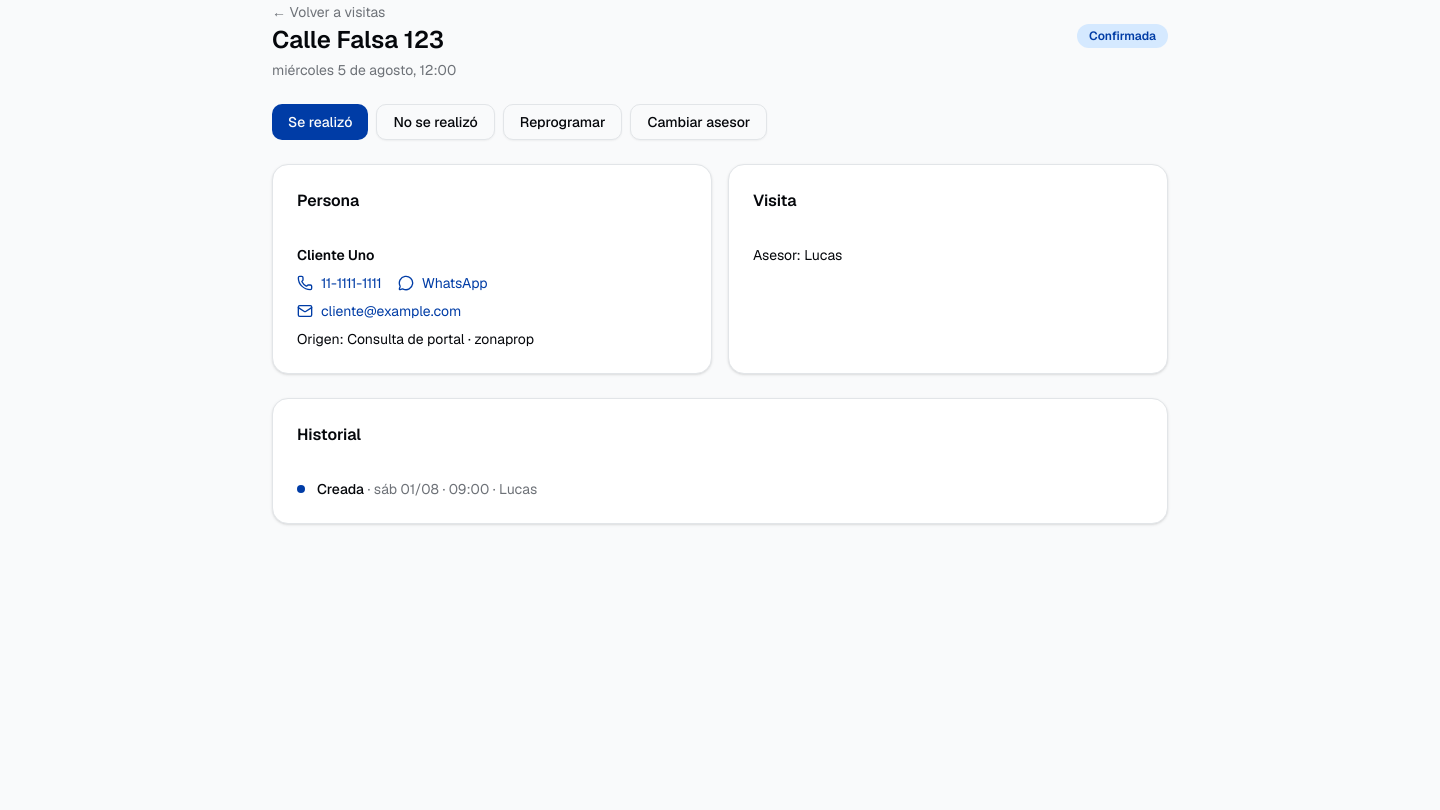
Scenario: VisitDetailPage — cambiar de etapa › "No se realizó" exige un motivo antes de guardar, y después guarda y pinta la respuesta
Click the button "No se realizó": (436,122) [376,104,495,140]
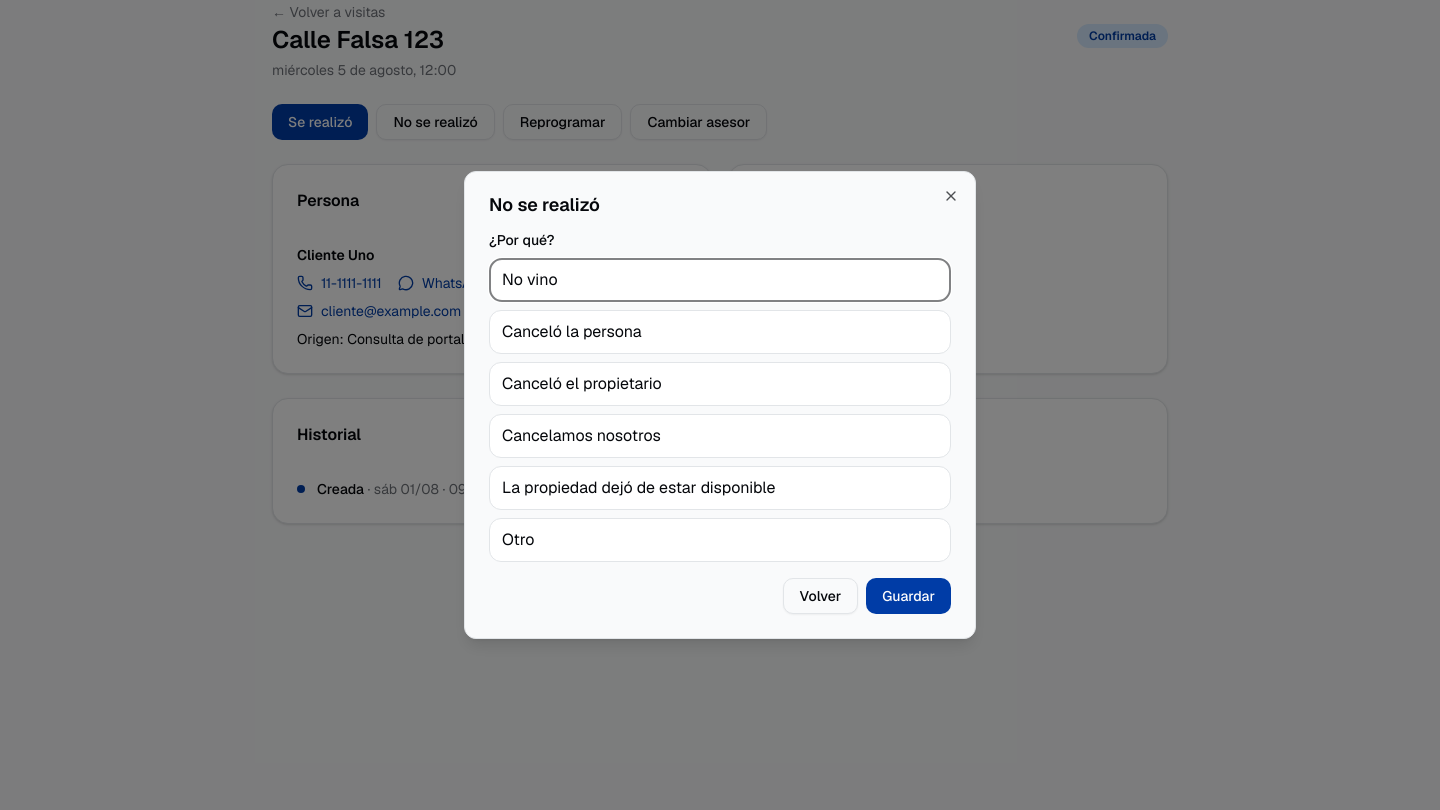
Click the button "Guardar": (909,596) [866,578,951,614]
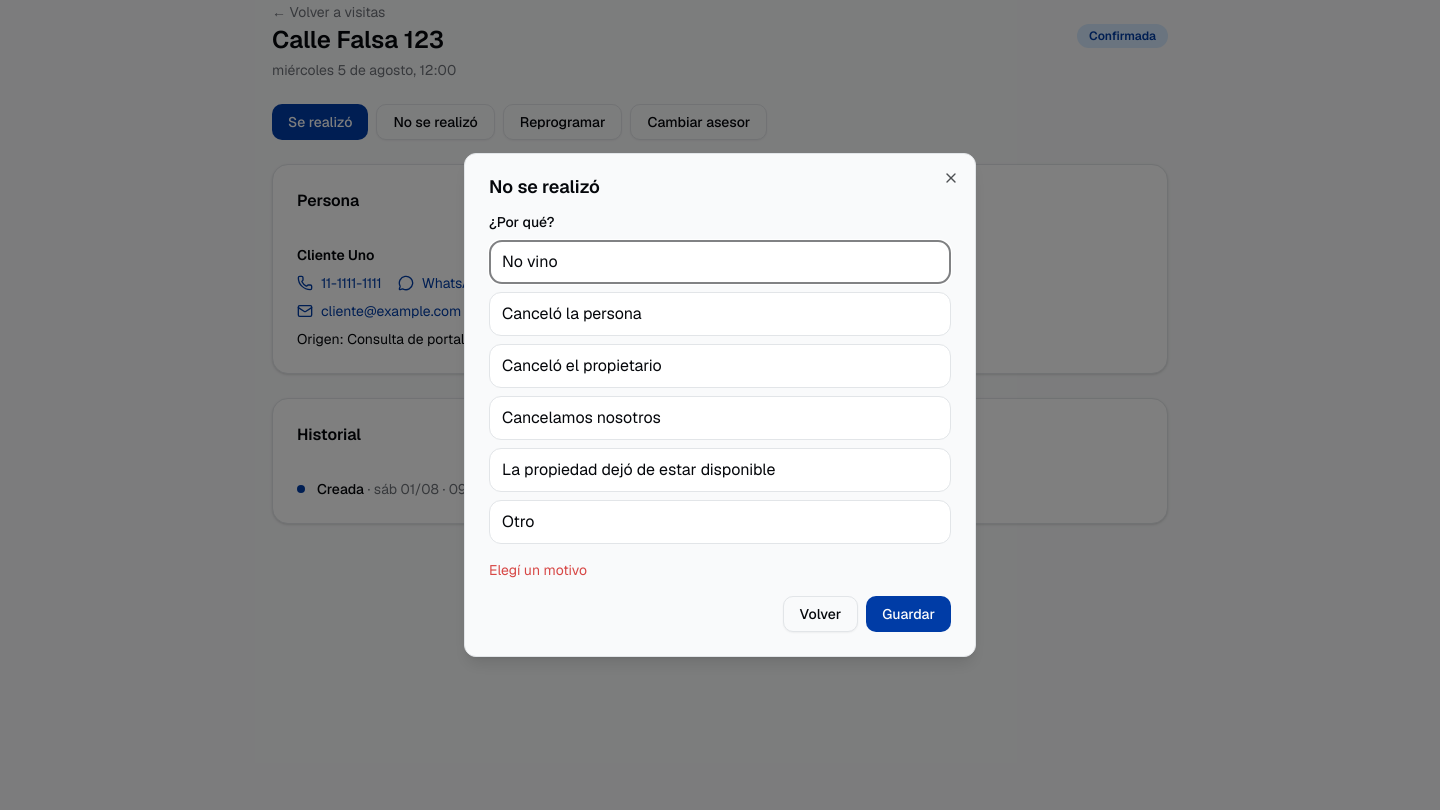
Expected: the text "Elegí un motivo" is shown, [489,561,587,579]
Click the radio button labelled "No vino": (530,262) [489,240,951,284]
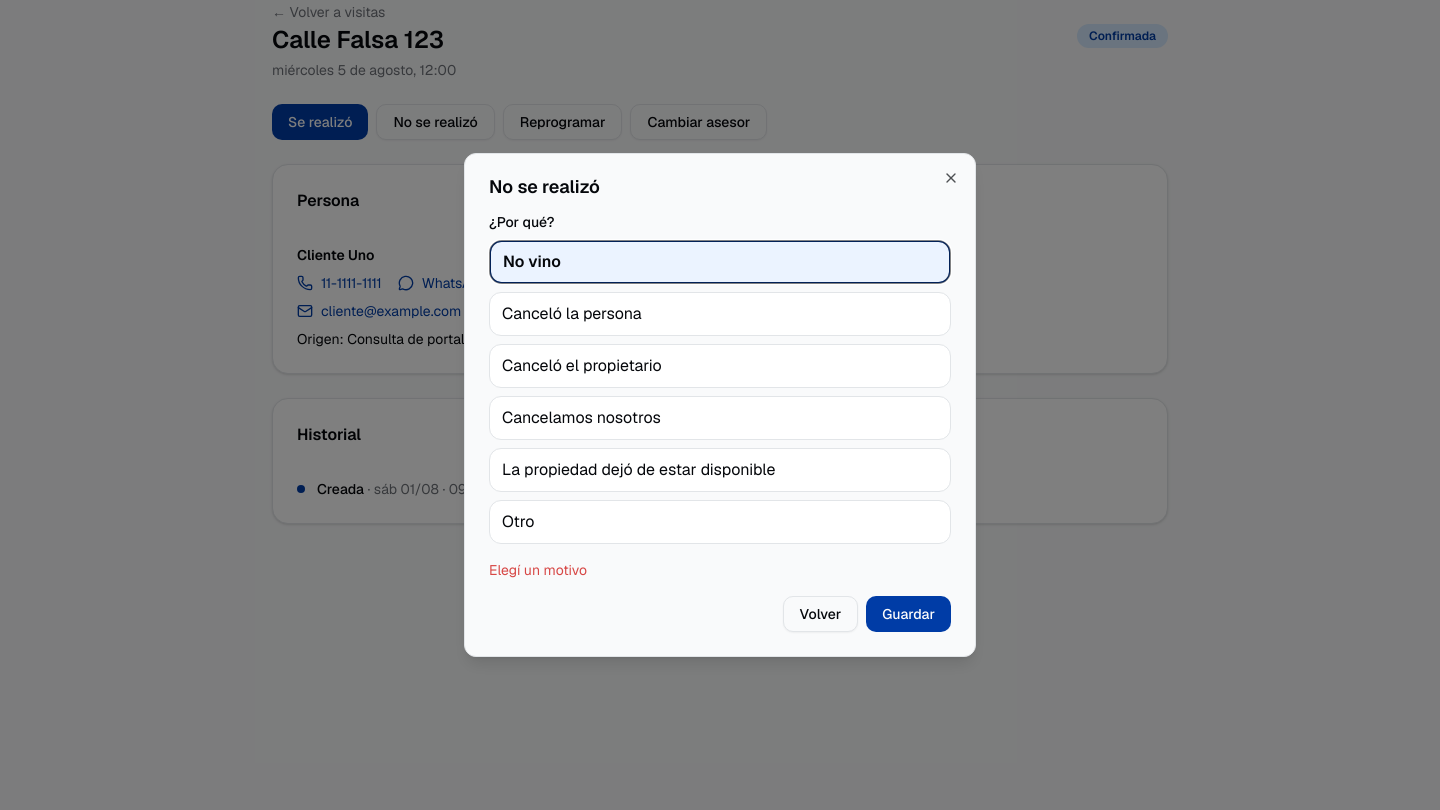
Click the button "Guardar": (909,614) [866,596,951,632]
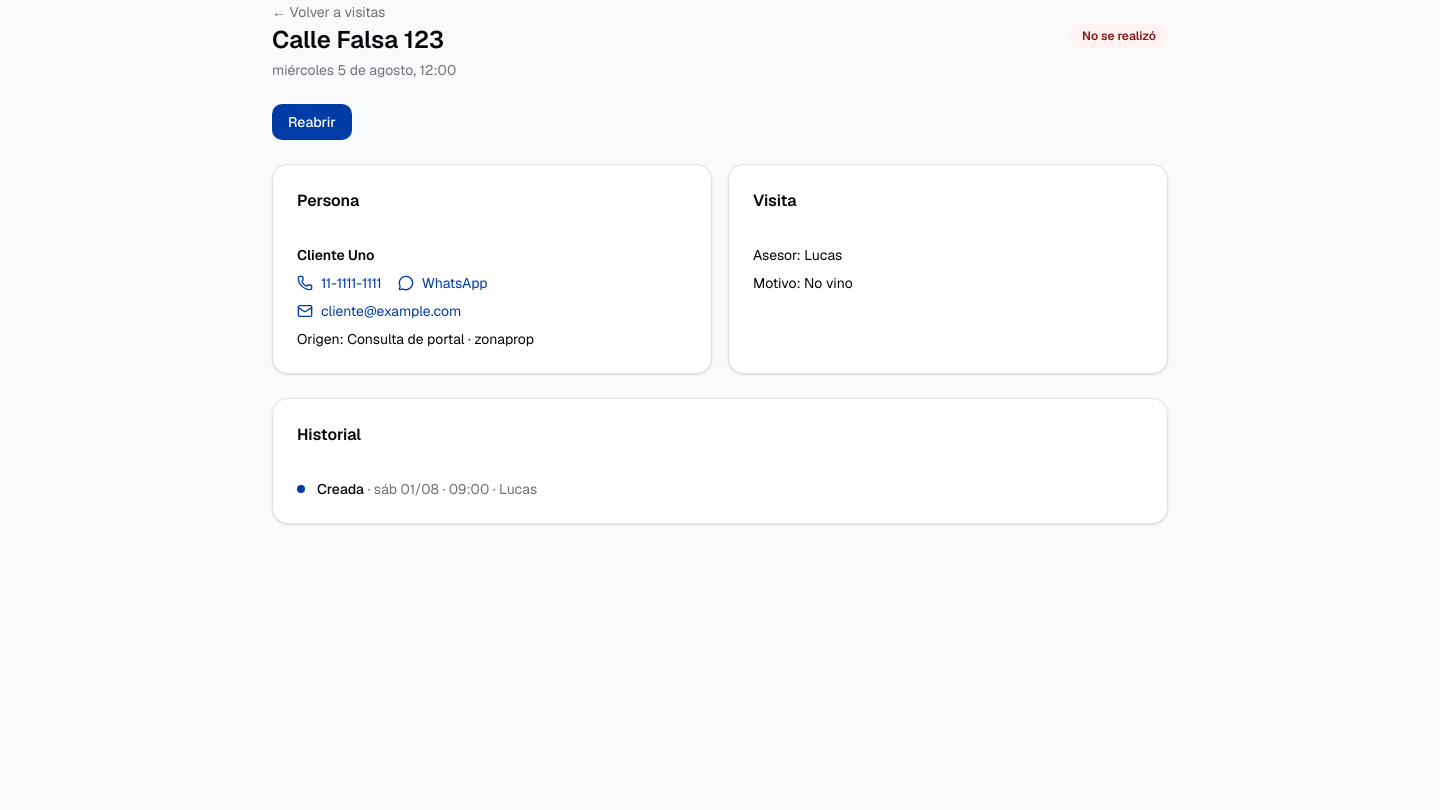
Expected: the button "Reabrir" is shown, [272,104,352,140]
